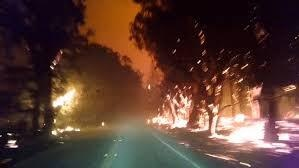fire: (149, 83, 261, 138), (50, 82, 82, 132)
